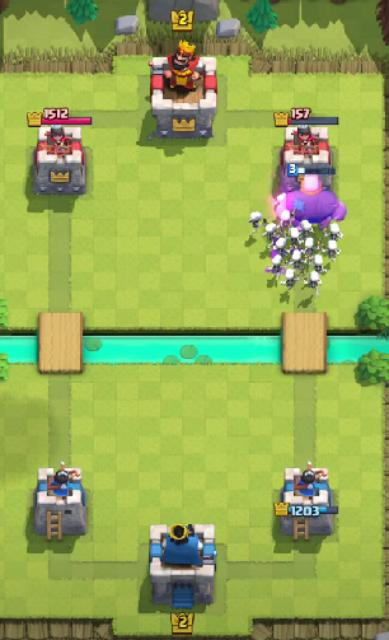ally_melee: (278, 163, 347, 228), (264, 253, 287, 281), (302, 270, 323, 296), (247, 213, 267, 236), (262, 220, 279, 246), (304, 237, 321, 263), (281, 268, 300, 291), (323, 239, 341, 263), (324, 224, 343, 245), (289, 227, 304, 250), (289, 250, 304, 272), (274, 238, 289, 258), (281, 210, 295, 231), (315, 254, 328, 274)
